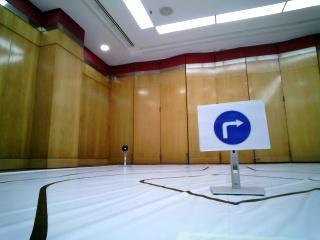right: (196, 105, 272, 150)
